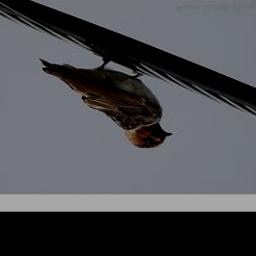Swallow: (35, 53, 173, 151)
